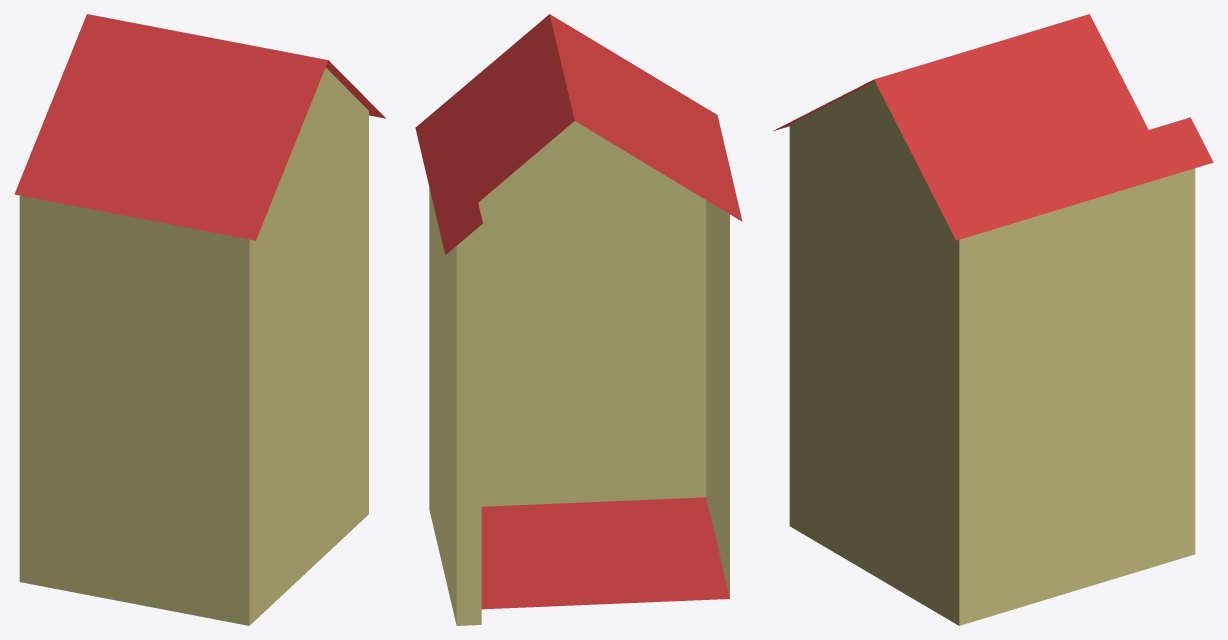
3 views of the same model, side by side, from view 1: azimuth 30°, elevation 25°; view 2: azimuth 150°, elevation 25°; view 3: azimuth 270°, elevation 25° (orthographic). The views are drawn at different scales.
Bounding box in the file's own units: 7.8 × 8.37 × 10.57.
